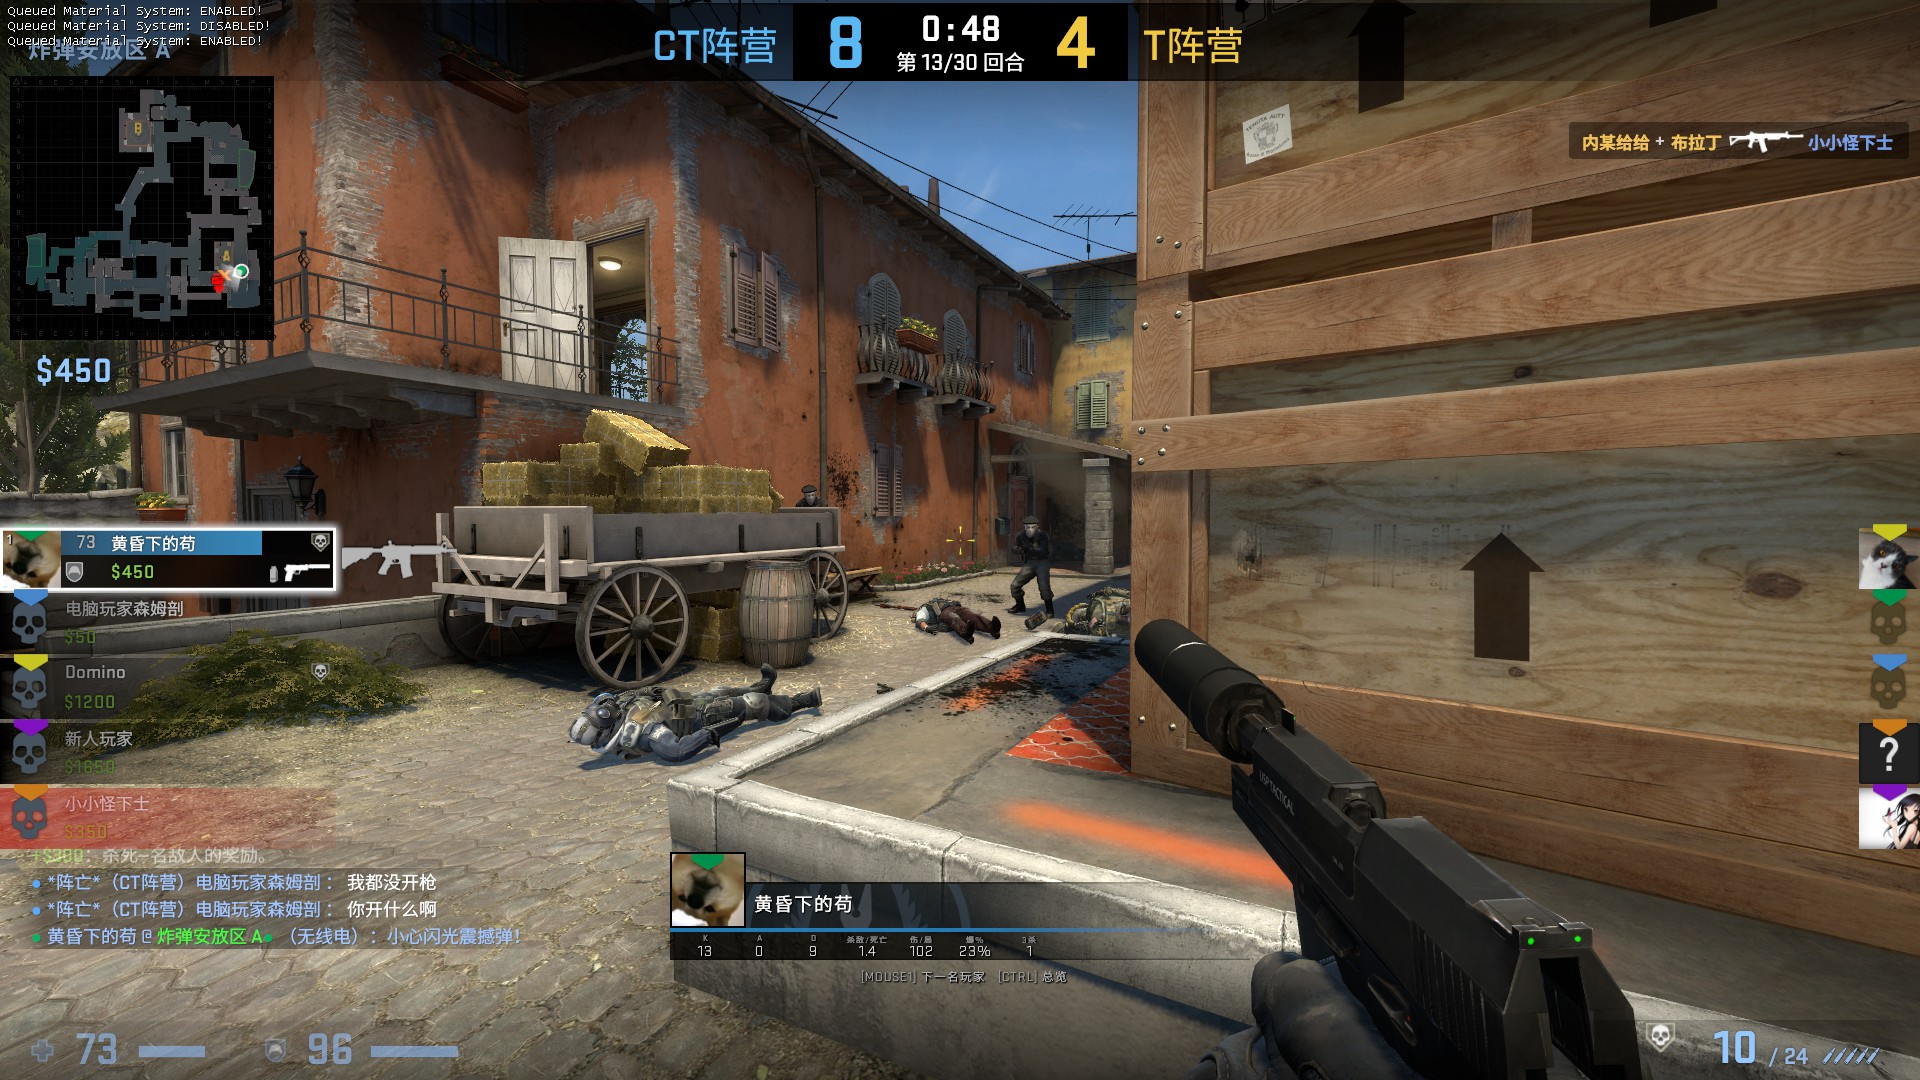head: (567, 694, 620, 751), (1065, 599, 1093, 633), (798, 482, 820, 507), (1020, 514, 1041, 540)
